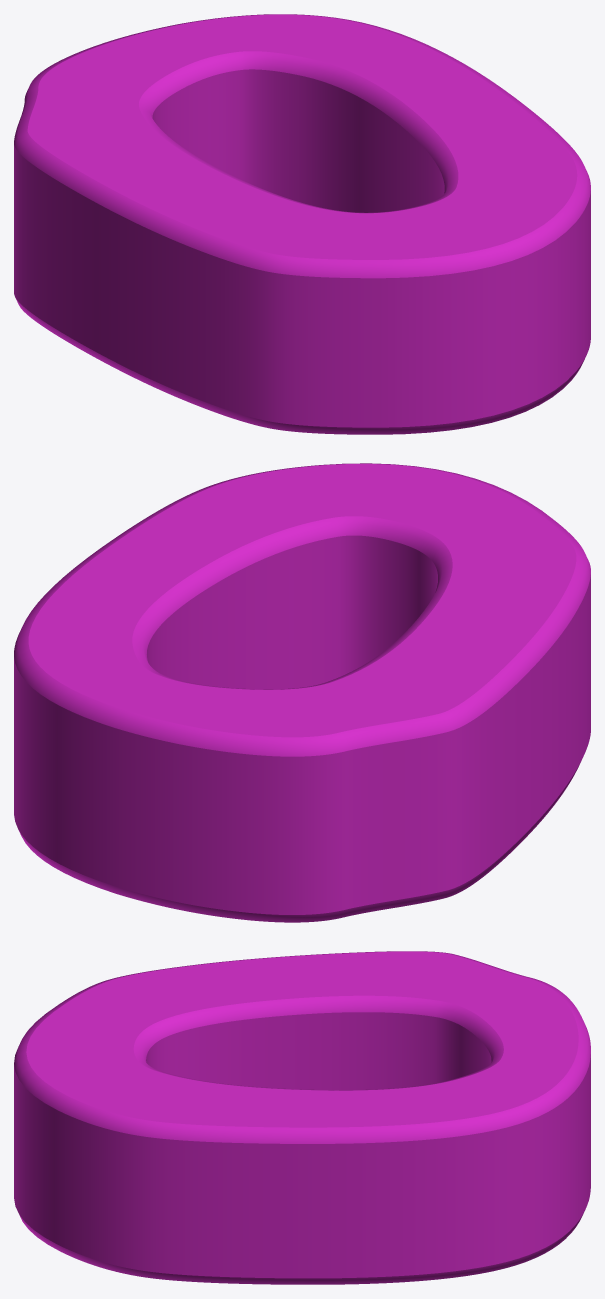
The model's file is Bubble_Letter_o.fbx.
3 renders of one model, top to bottom at view 1: azimuth 30°, elevation 25°; view 2: azimuth 150°, elevation 25°; view 3: azimuth 270°, elevation 25°, orthographic. The views are drawn at different scales.
Parts seen in each view (by area): view 1: BubbleLetter_o; view 2: BubbleLetter_o; view 3: BubbleLetter_o.
Boxes of the visible parts, <box> form: BubbleLetter_o: <box>14,14,590,434</box>; BubbleLetter_o: <box>14,463,590,922</box>; BubbleLetter_o: <box>14,951,590,1284</box>.
Bounding box in the file's own units: 0.3569 × 0.14 × 0.4669.
